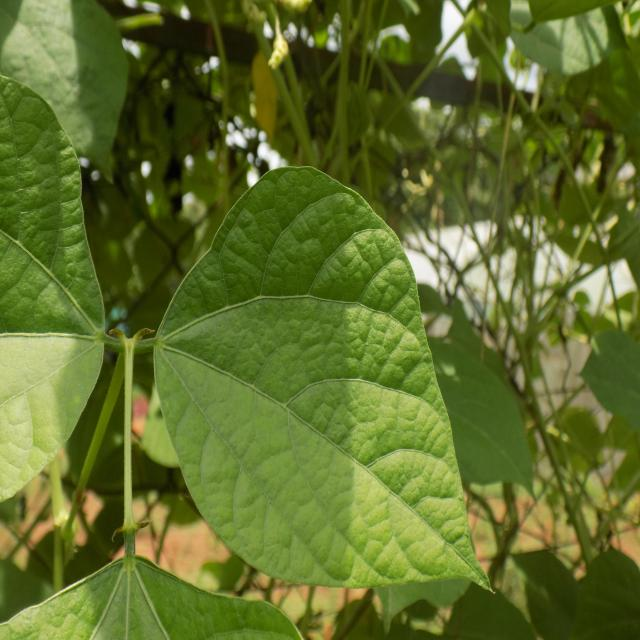Dolicos bean_healthy: (159, 158, 505, 590)
